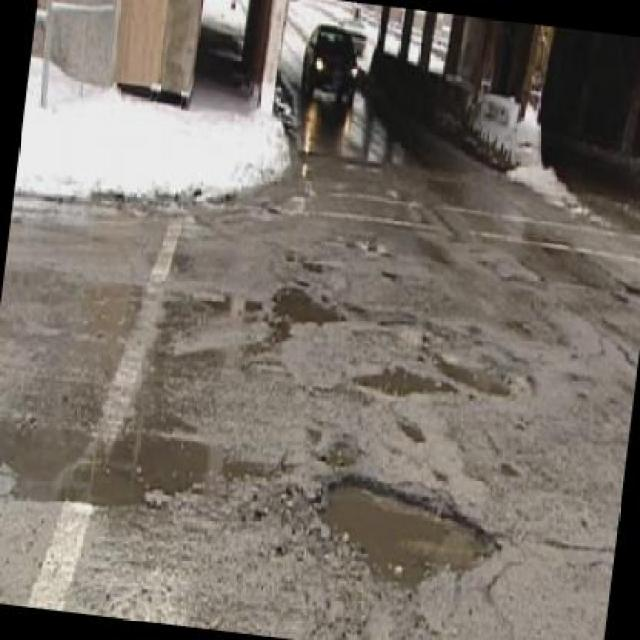pothole1: (299, 463, 507, 602), (0, 403, 220, 528), (415, 337, 540, 409), (266, 273, 351, 332), (347, 357, 456, 403)
